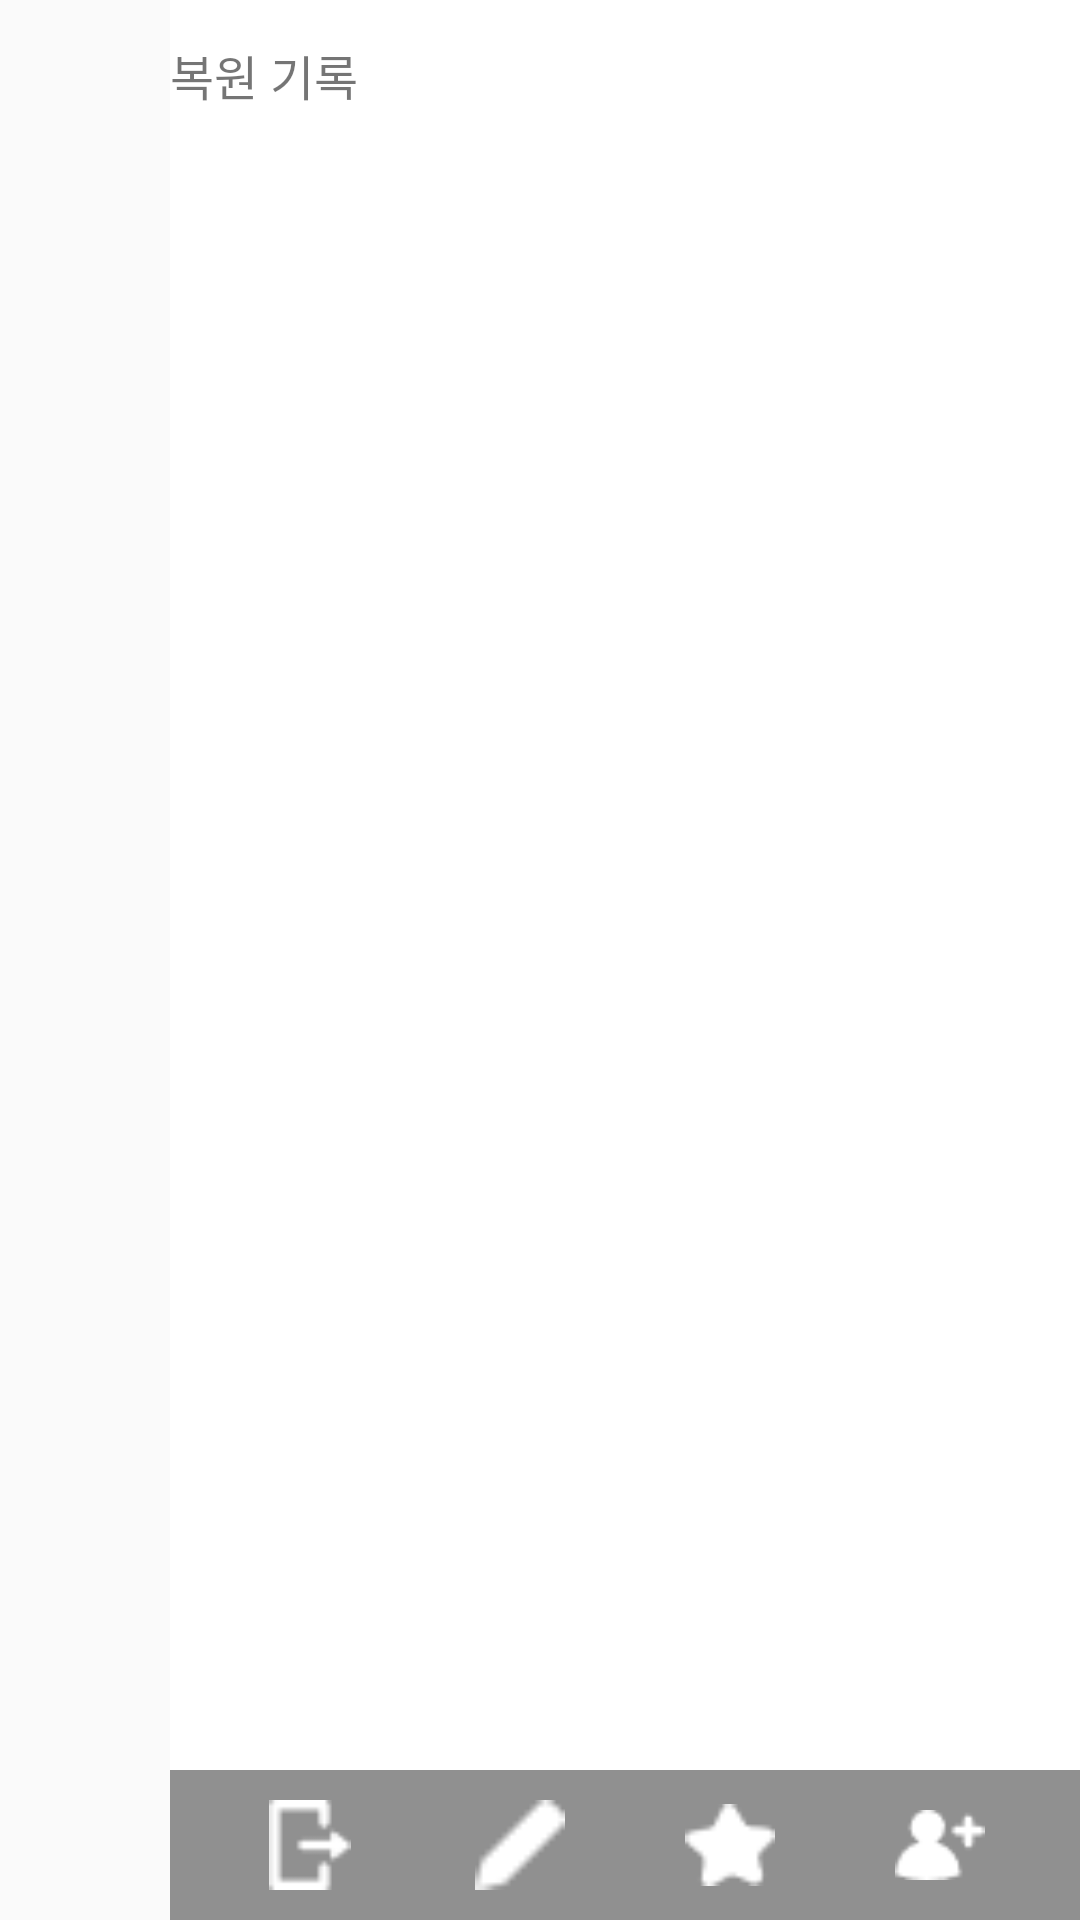

Screen size 1080w x 1920h. Icon name, then its center in pixels as [x,y]:
exit: [310,1845]
favorite: [730,1845]
friendplus: [940,1845]
titleupdate: [520,1845]
